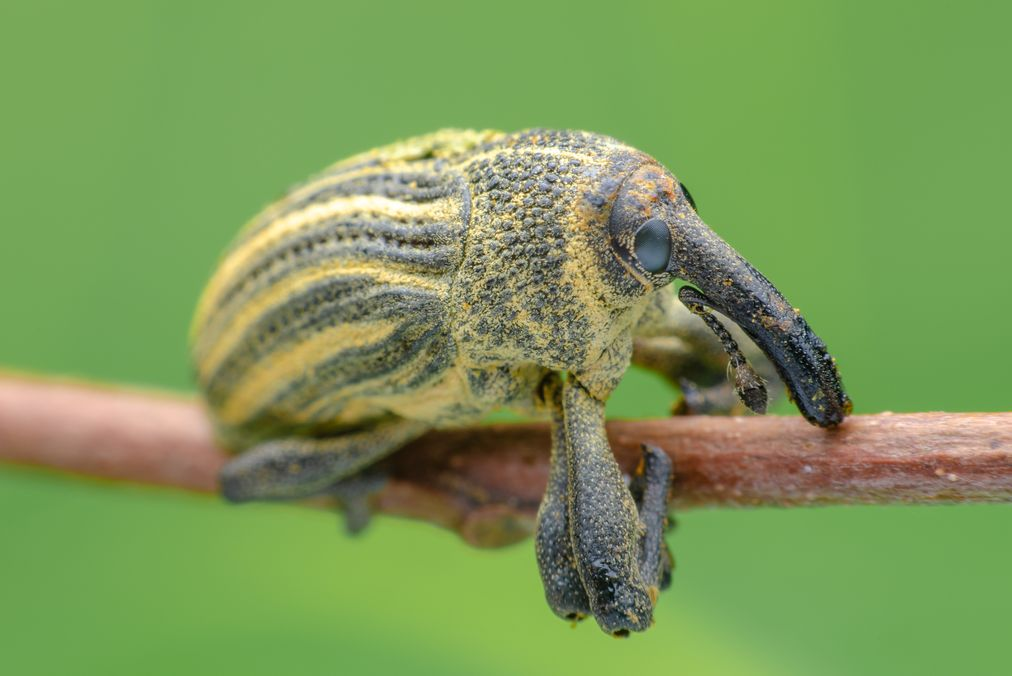dolgonosik: (175, 123, 854, 641)
